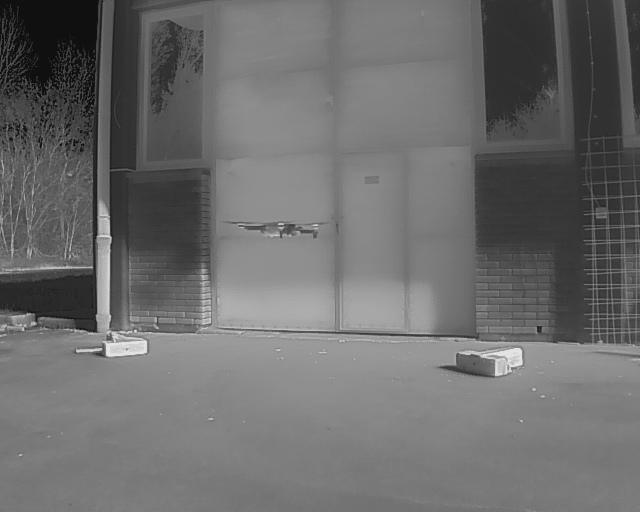drone: (217, 216, 337, 247)
